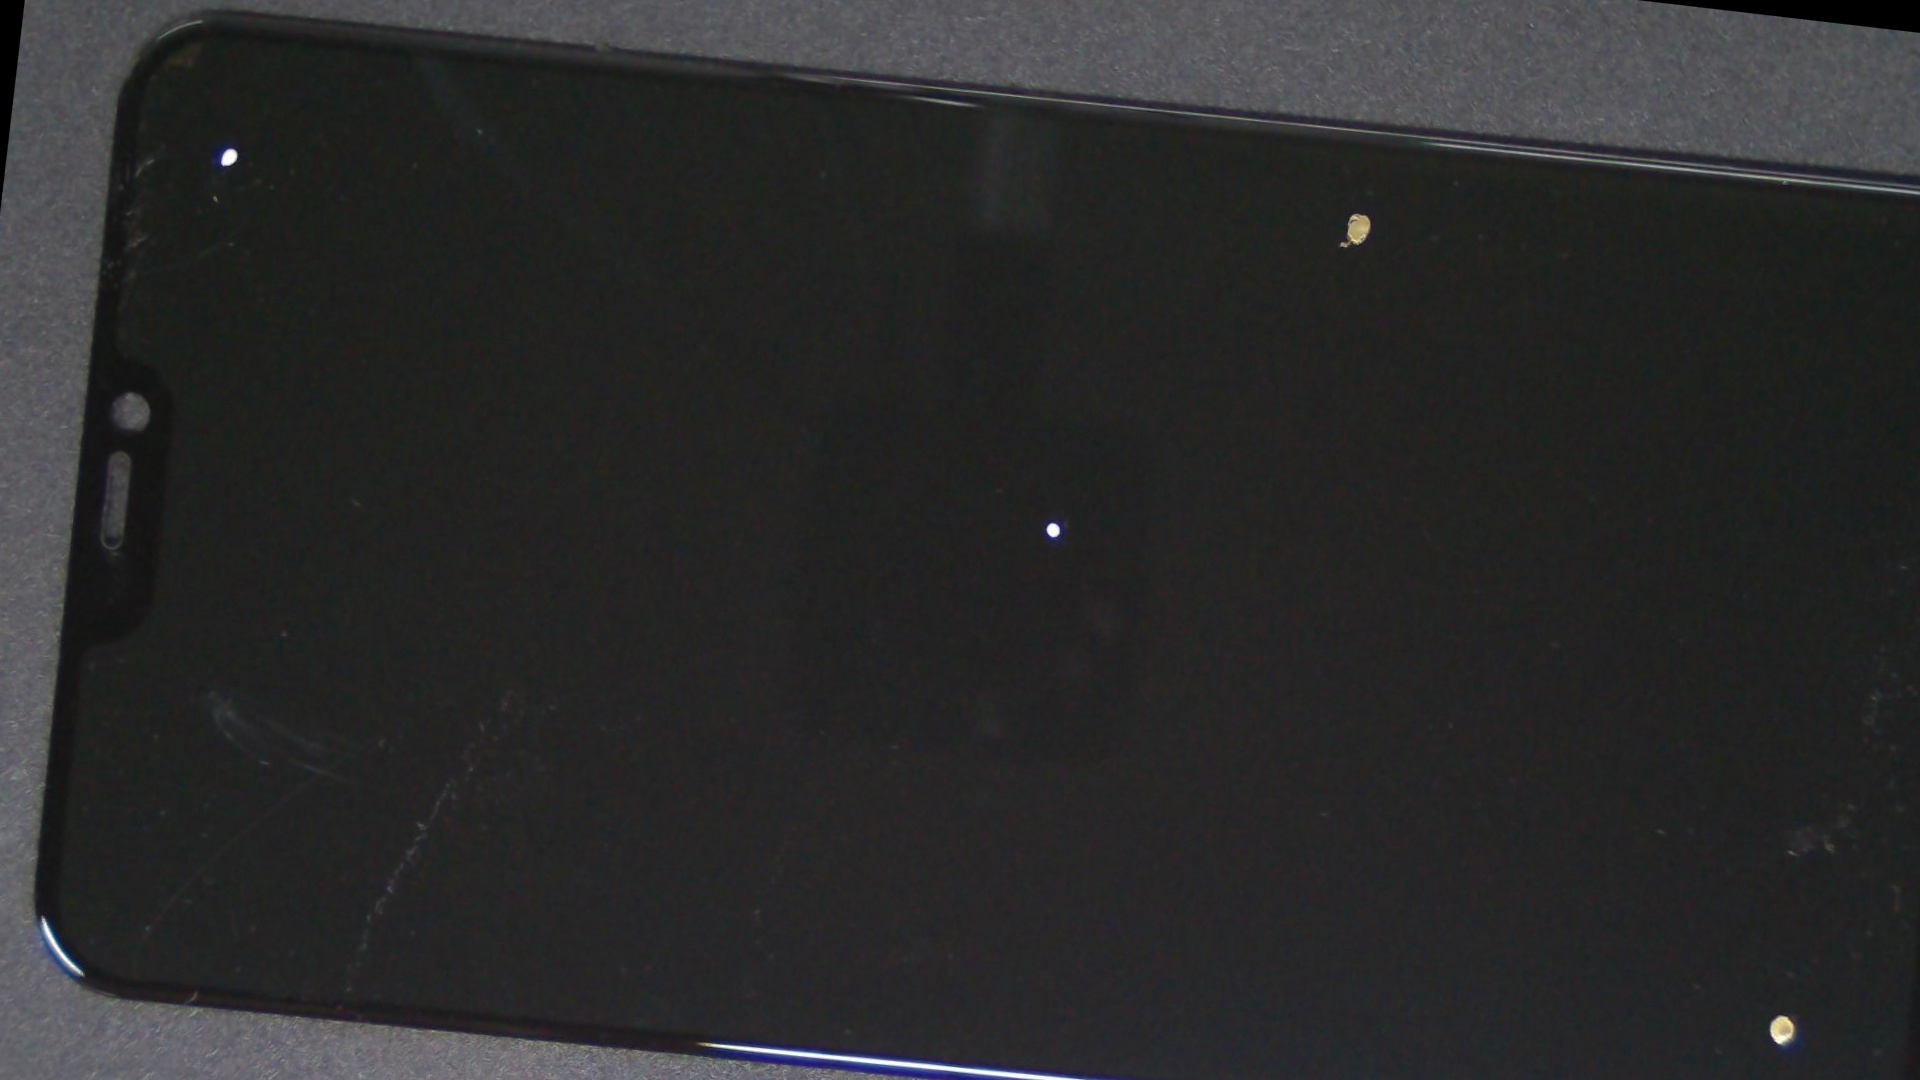oil: (483, 167, 1623, 873), (823, 413, 1920, 1080), (679, 12, 1920, 409), (104, 0, 357, 313)
